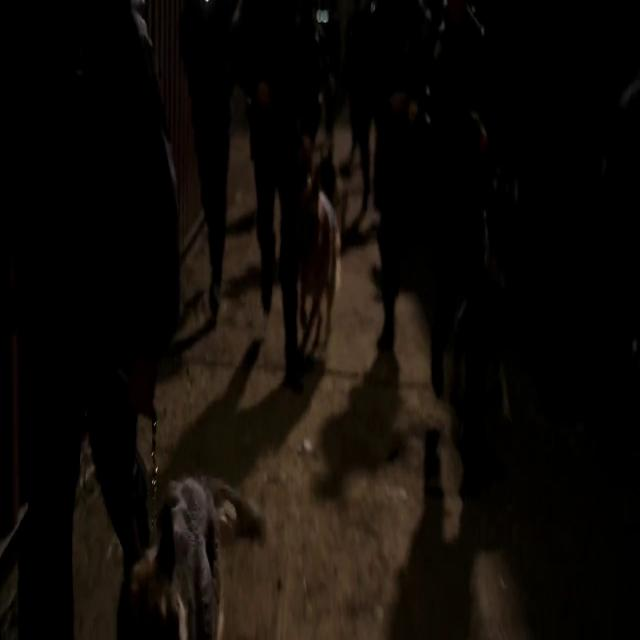Dog: (105, 420, 268, 640), (264, 162, 364, 378)
